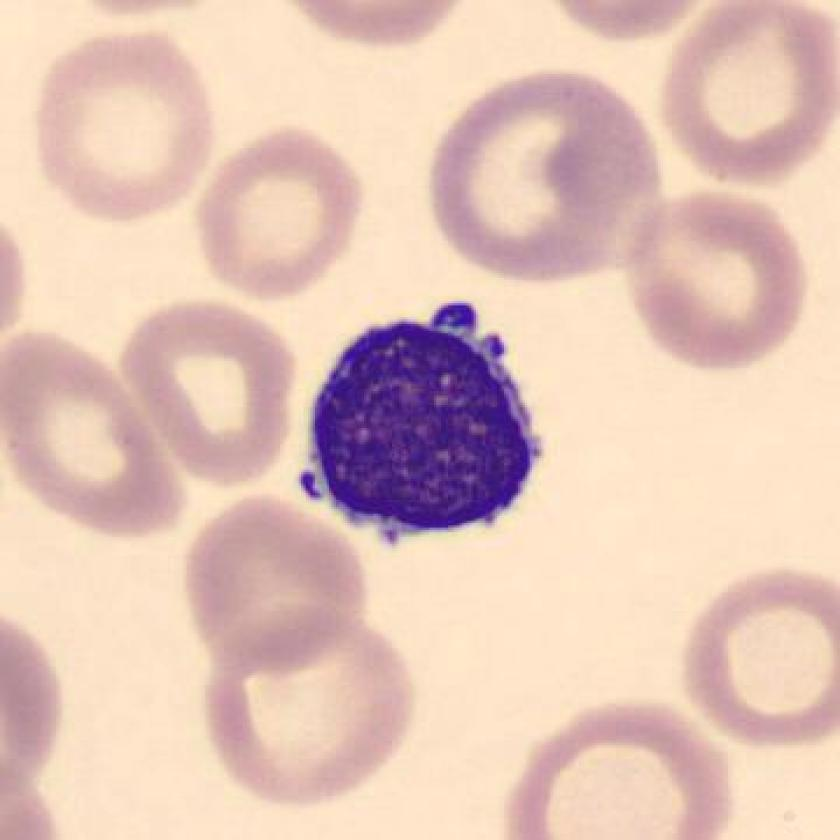lymphocyte: (286, 288, 554, 568)
